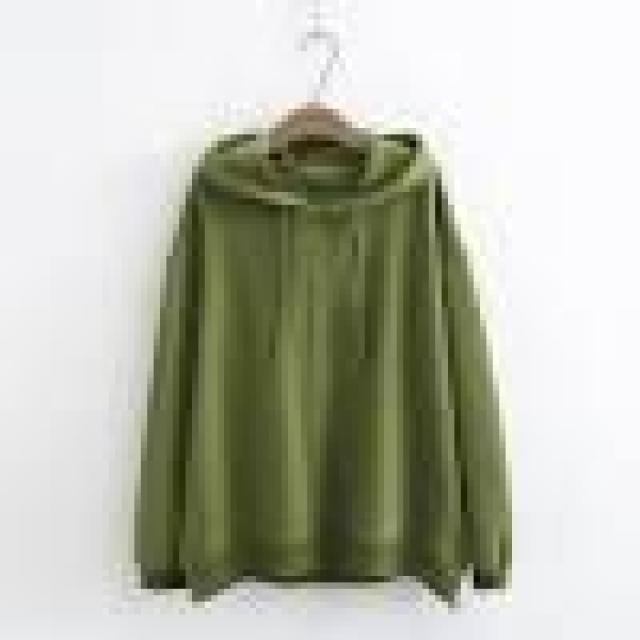sweater: (128, 128, 512, 602)
